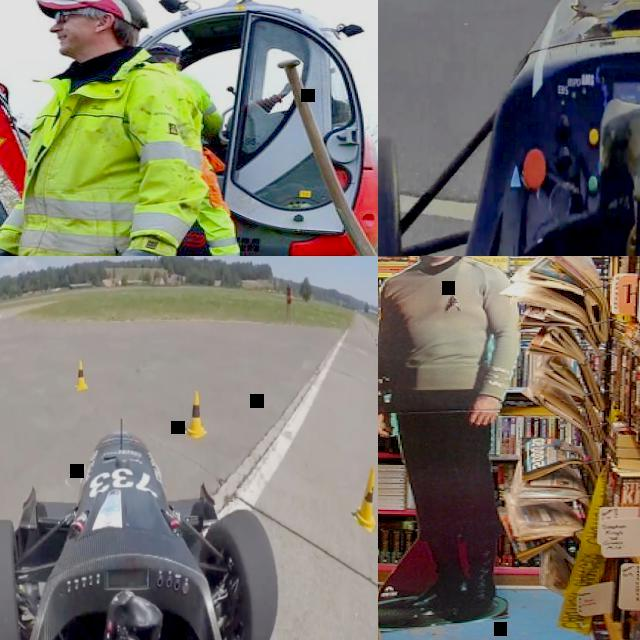machinery: (0, 0, 378, 256)
no_helmet: (56, 0, 136, 18), (148, 42, 182, 56)
no_mask: (53, 26, 109, 54)
no_vest: (288, 290, 292, 302)
person: (0, 0, 207, 256), (137, 39, 228, 141), (193, 135, 260, 256), (285, 283, 293, 319)
safety_cone: (352, 458, 378, 536), (182, 388, 208, 441), (76, 360, 90, 394)
vehicle: (378, 0, 640, 256), (0, 420, 286, 640)
vest: (15, 60, 204, 256), (25, 122, 230, 256), (134, 65, 210, 137)
